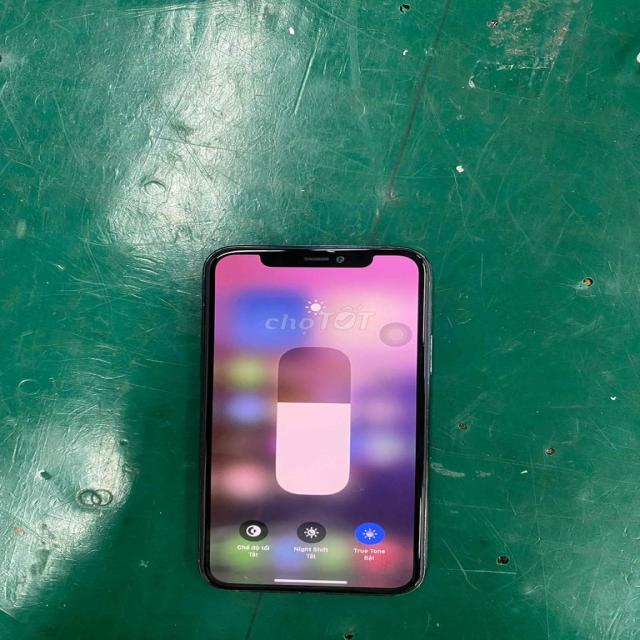scratch: (224, 582, 329, 606), (369, 244, 432, 267), (188, 292, 218, 326), (318, 243, 340, 261)
